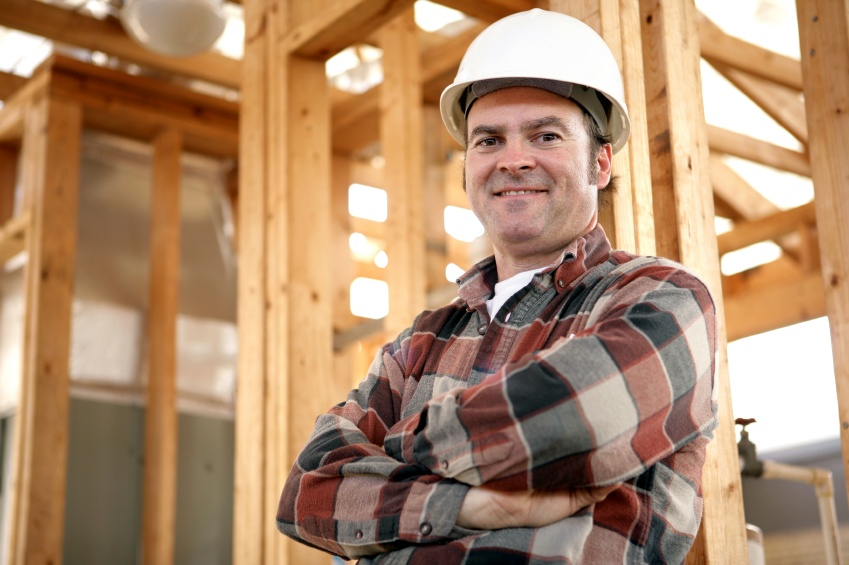white: (433, 6, 632, 254)
